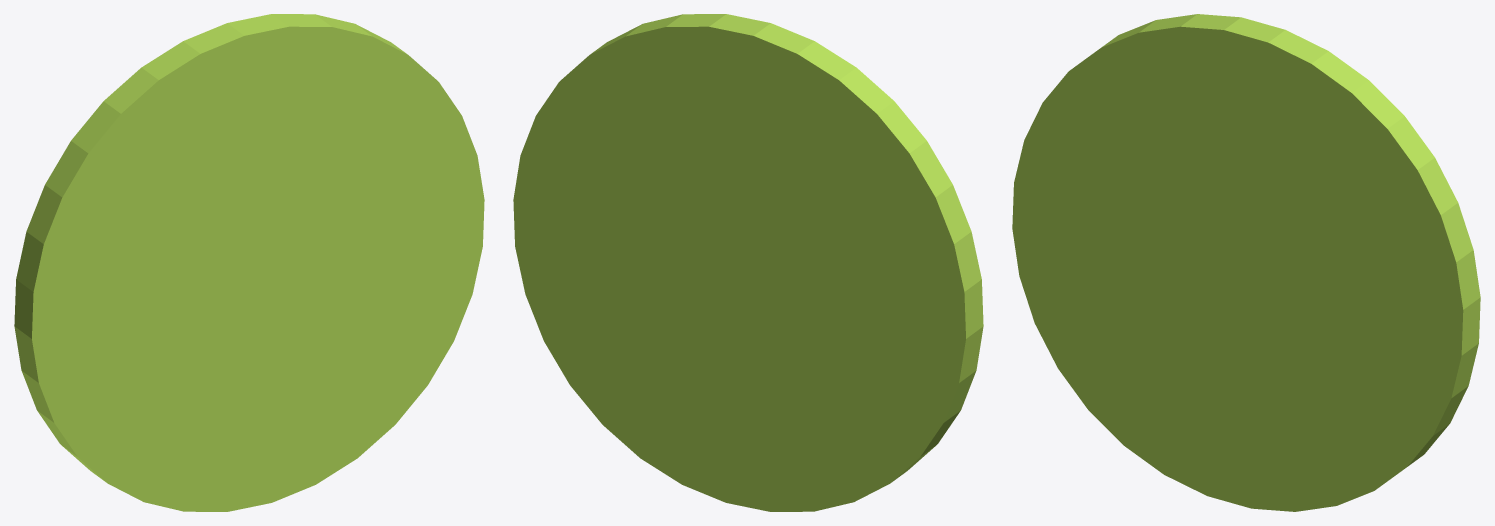
File: ur10_e_link_coll_2.dae
3 renders of one model, left to right at view 1: azimuth 30°, elevation 25°; view 2: azimuth 150°, elevation 25°; view 3: azimuth 330°, elevation 25°, orthographic.
Parts seen in each view (by area): view 1: node; view 2: node; view 3: node.
Boxes of the visible parts, x1=… form: node: x1=14, y1=14, x2=484, y2=511; node: x1=513, y1=14, x2=983, y2=511; node: x1=1012, y1=14, x2=1480, y2=511.
Bounding box in the file's own units: 0.1497 × 0.1497 × 0.01.
